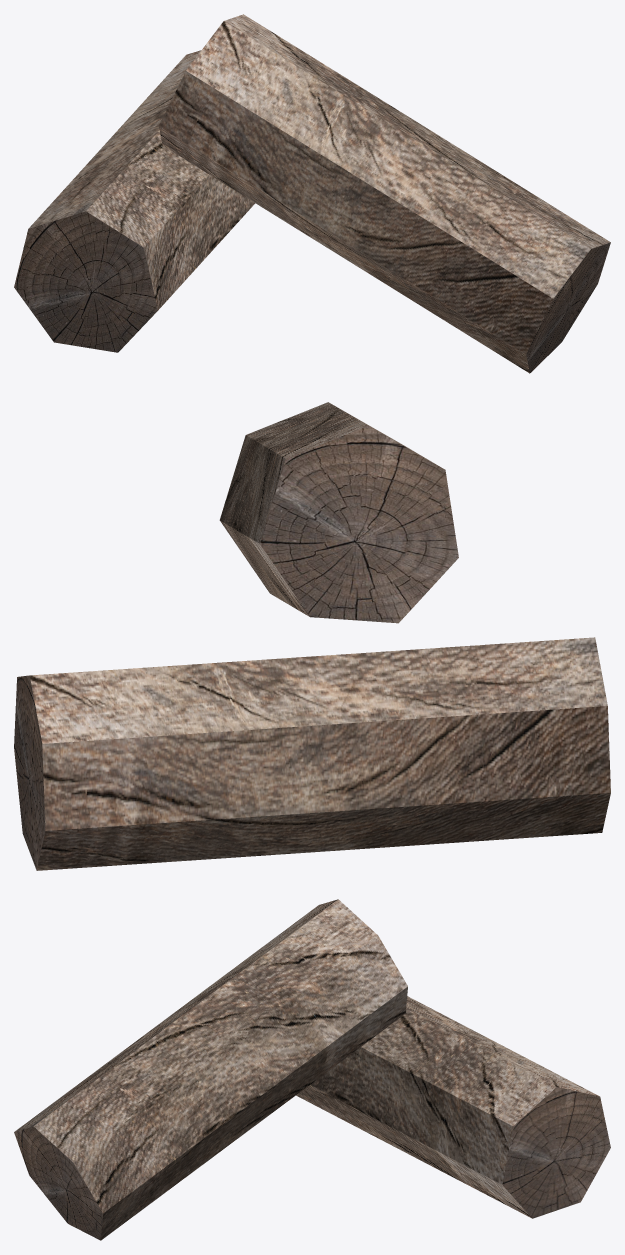
Rendered from Logs.fbx.
3 renders of one model, top to bottom at view 1: azimuth 30°, elevation 25°; view 2: azimuth 150°, elevation 25°; view 3: azimuth 270°, elevation 25°, orthographic. The views are drawn at different scales.
Visible parts, largest first — view 1: pCylinder5, pCylinder4; view 2: pCylinder4, pCylinder5; view 3: pCylinder5, pCylinder4.
Boxes of the visible parts, left/top/right/bottom form: pCylinder5: left=158, top=14, right=610, bottom=373; pCylinder4: left=14, top=50, right=255, bottom=352; pCylinder4: left=14, top=637, right=610, bottom=870; pCylinder5: left=219, top=402, right=458, bottom=623; pCylinder5: left=14, top=899, right=407, bottom=1240; pCylinder4: left=296, top=996, right=610, bottom=1218.
Bounding box in the file's own units: 17.41 × 10.58 × 22.44.
2 materials, 2 textured.
